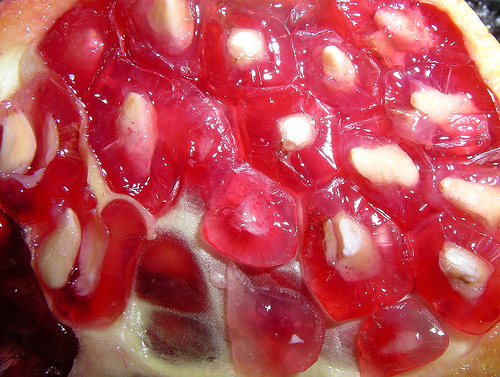pomogranate: (1, 0, 499, 376)
